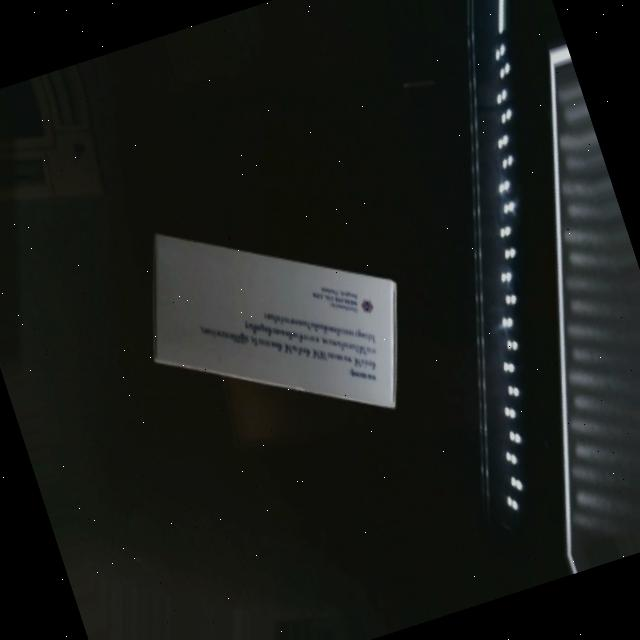sefloc: (128, 231, 418, 414)
